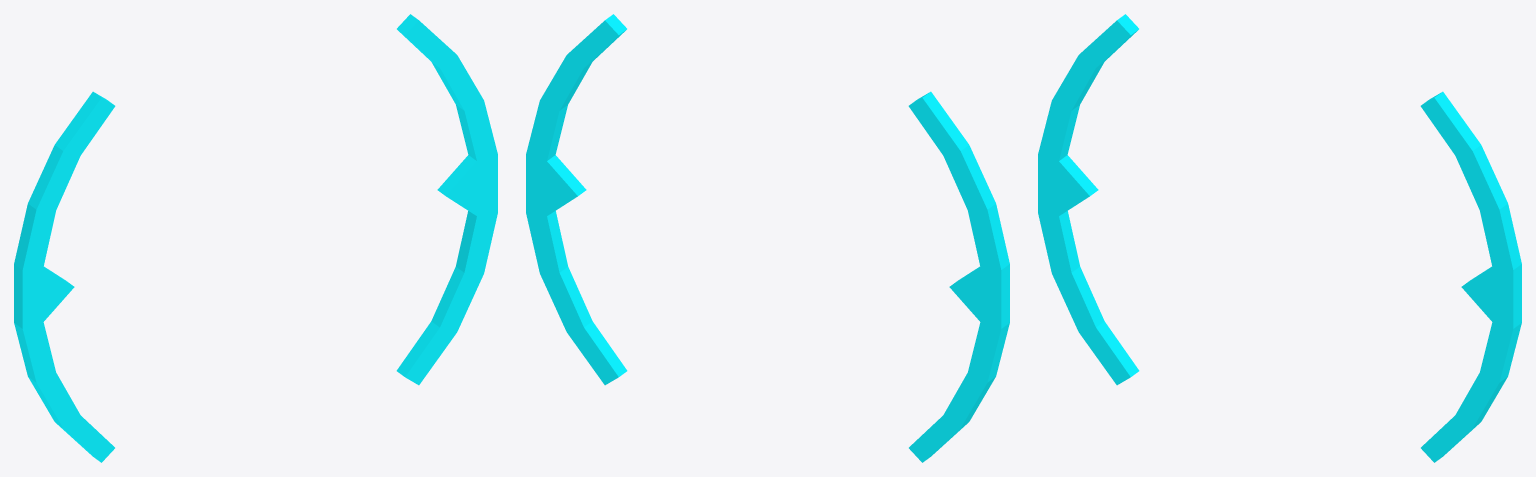
File: SM_Hud_Reticle_08.glb
3 views of the same model, side by side, from view 1: azimuth 30°, elevation 25°; view 2: azimuth 150°, elevation 25°; view 3: azimuth 330°, elevation 25° (orthographic).
Visible parts, largest first — view 1: SM_Hud_Reticle_08; view 2: SM_Hud_Reticle_08; view 3: SM_Hud_Reticle_08.
Boxes of the visible parts, bbox=[...] form: SM_Hud_Reticle_08: bbox=[14, 14, 497, 462]; SM_Hud_Reticle_08: bbox=[526, 14, 1009, 462]; SM_Hud_Reticle_08: bbox=[1038, 14, 1521, 462].
Size of the model in its own units: 0.4513 by 0.3314 by 0.0142.
